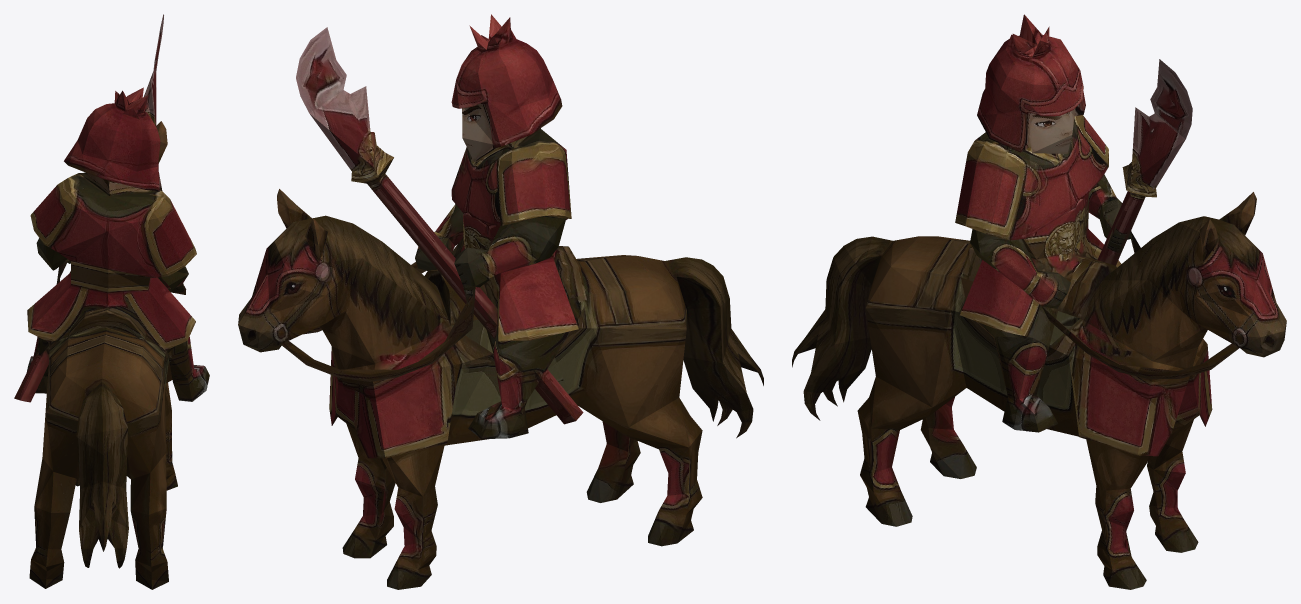
The model's file is 紅騎兵+3D+model_1K.glb.
3 views of the same model, side by side, from view 1: azimuth 30°, elevation 25°; view 2: azimuth 150°, elevation 25°; view 3: azimuth 270°, elevation 25° (orthographic). The views are drawn at different scales.
Visible parts, largest first — view 1: tripo_node_f22da61a-84b9-4e62-9c50-ded970b30338; view 2: tripo_node_f22da61a-84b9-4e62-9c50-ded970b30338; view 3: tripo_node_f22da61a-84b9-4e62-9c50-ded970b30338.
Part boxes in pixels (box(x1,y1,x2,y2)): tripo_node_f22da61a-84b9-4e62-9c50-ded970b30338: box(14, 14, 209, 589); tripo_node_f22da61a-84b9-4e62-9c50-ded970b30338: box(238, 14, 763, 589); tripo_node_f22da61a-84b9-4e62-9c50-ded970b30338: box(792, 14, 1286, 589).
Bounding box in the file's own units: 0.5879 × 0.998 × 0.8418.
1 material, 1 textured.
